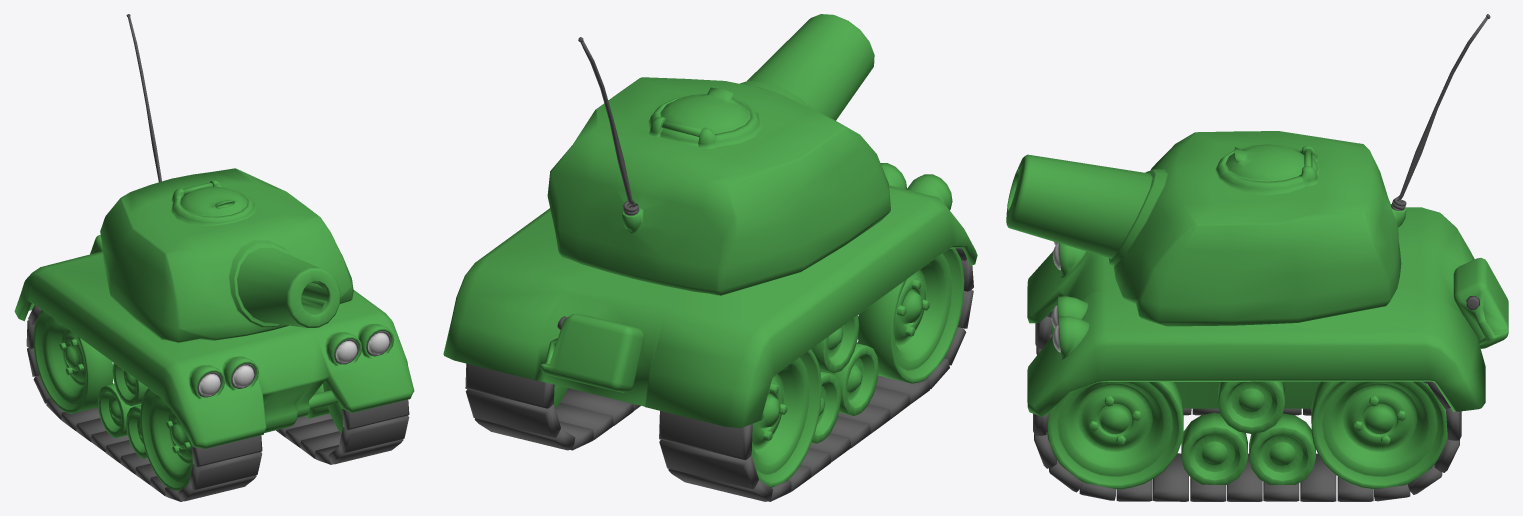
Rendered from MiddlewareTank.fbx.
3 renders of one model, left to right at view 1: azimuth 30°, elevation 25°; view 2: azimuth 150°, elevation 25°; view 3: azimuth 270°, elevation 25°, orthographic. The views are drawn at different scales.
Parts seen in each view (by area): view 1: TankChassis, TankTurret, TankTracksRight, TankTracksLeft; view 2: TankTurret, TankChassis, TankTracksRight, TankTracksLeft; view 3: TankTurret, TankChassis, TankTracksLeft, TankTracksRight.
Part boxes in pixels (bbox=[...]): TankChassis: bbox=[14, 235, 414, 458]; TankTurret: bbox=[100, 14, 353, 342]; TankTracksRight: bbox=[26, 305, 262, 501]; TankTracksLeft: bbox=[276, 380, 409, 464]; TankTurret: bbox=[547, 14, 890, 295]; TankChassis: bbox=[443, 163, 977, 443]; TankTracksRight: bbox=[659, 248, 973, 501]; TankTracksLeft: bbox=[465, 363, 640, 450]; TankTurret: bbox=[1006, 14, 1490, 326]; TankChassis: bbox=[1027, 207, 1508, 485]; TankTracksLeft: bbox=[1033, 381, 1461, 501]; TankTracksRight: bbox=[1035, 311, 1311, 415].
Size of the model in its own units: 199 by 282 by 298.
